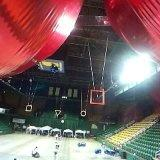Orange_Square_GShape: (90, 90, 105, 104)
Yellow_Circle_GShape: (80, 110, 87, 116)
Yellow_Square_GShape: (25, 105, 32, 112)
Yellow_Triangle_Gshape: (55, 110, 61, 116)
